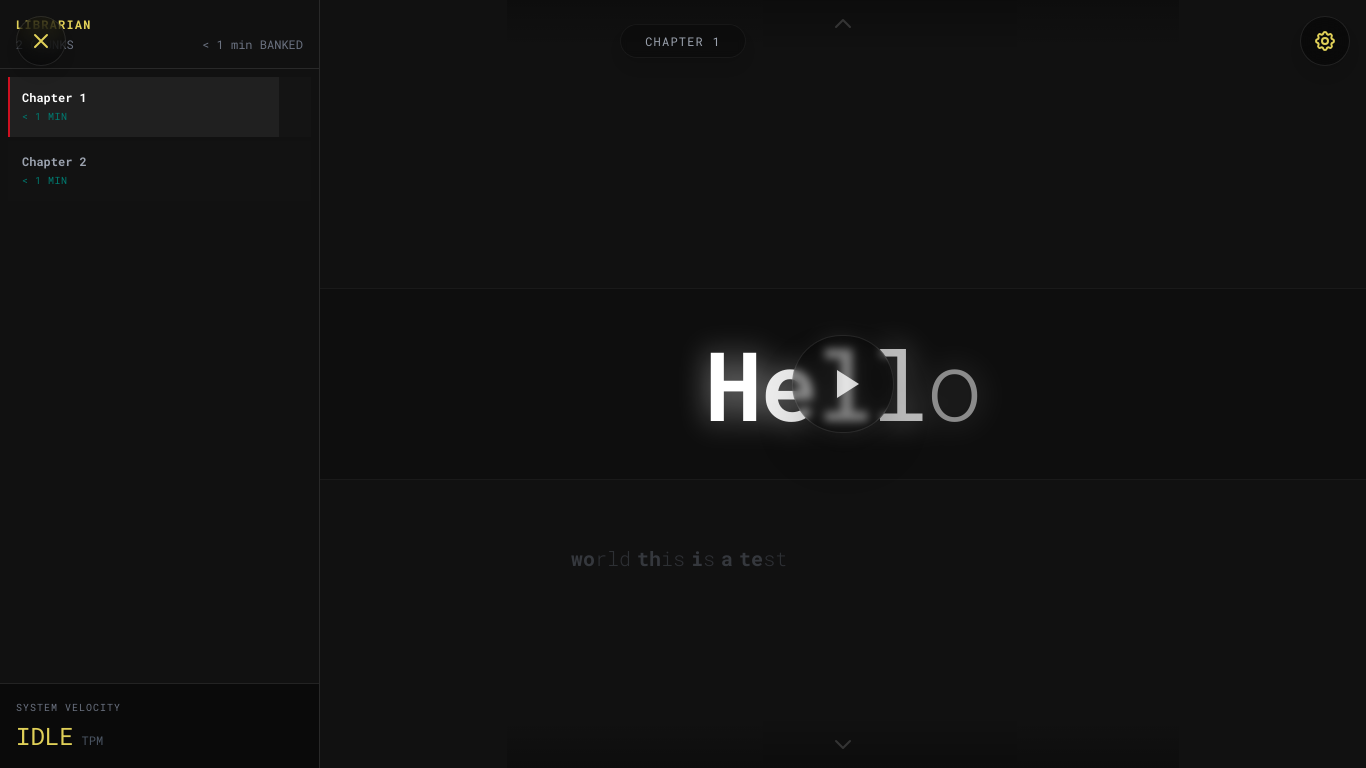
Test: Reader Component › should toggle play/pause
The width and height of the screenshot is (1366, 768).
Expected: the element with test id "play-overlay" is shown, [792,335,894,433]
Click the RSVP container to toggle play
Step 1. Click the element with test id "rsvp-container" → (843, 384), box [320,288,1365,480]
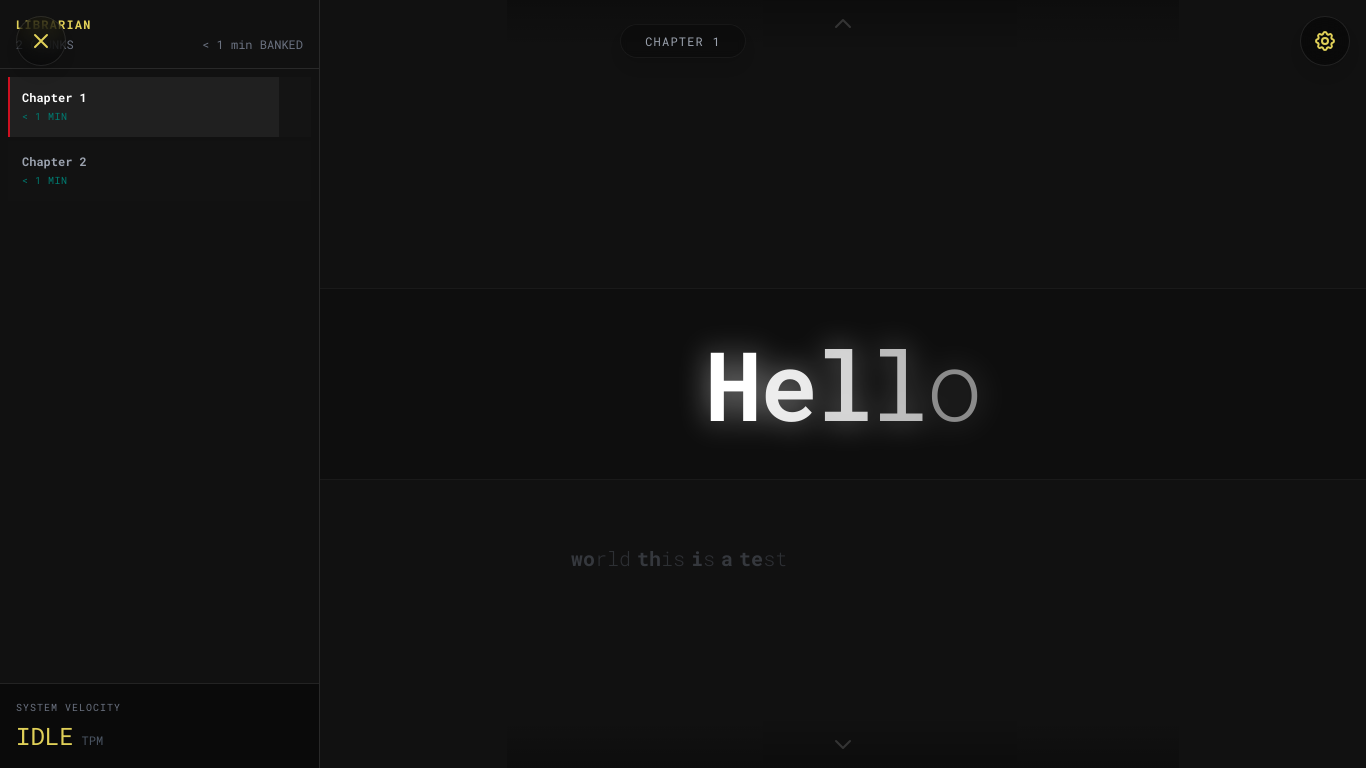
Result: the element with test id "play-overlay" is gone
Click again to pause
Step 2. Click the element with test id "rsvp-container" → (843, 384), box [320,288,1365,480]
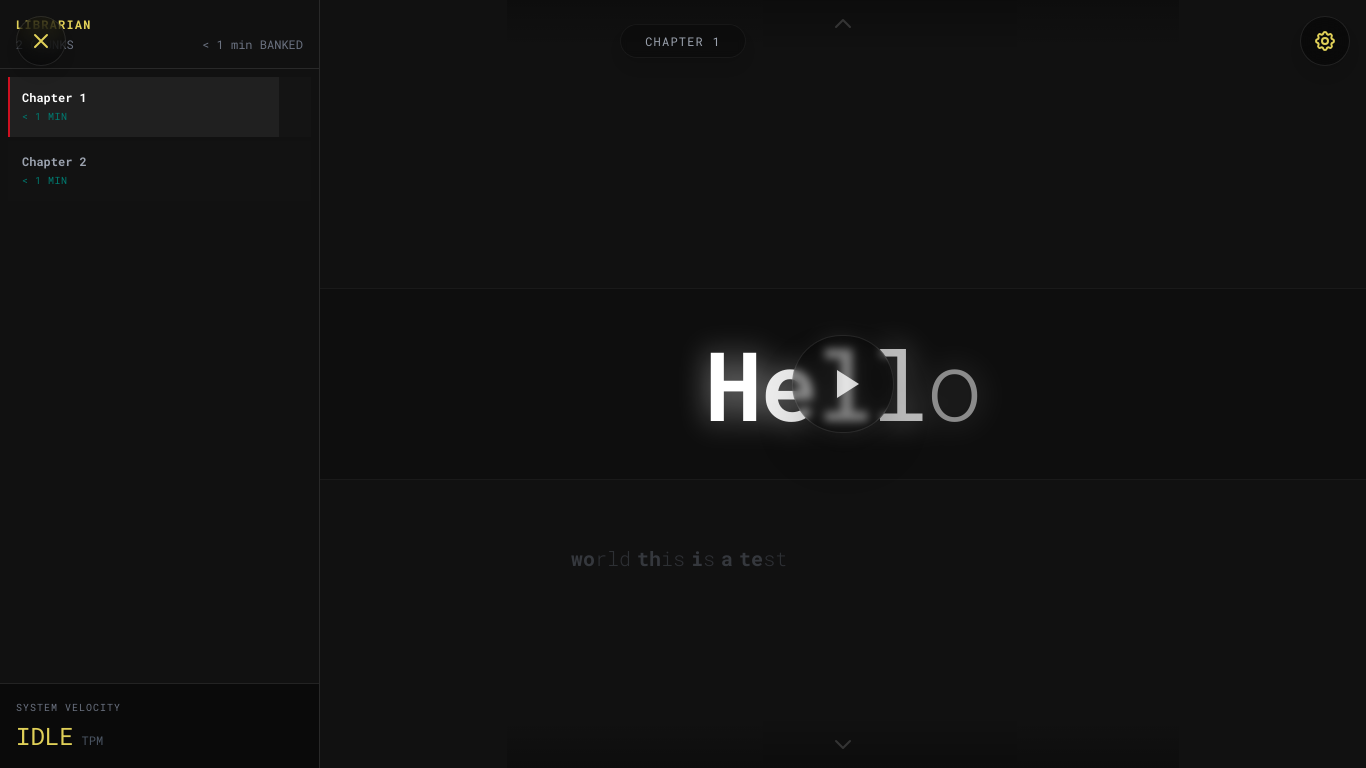
Result: the element with test id "play-overlay" is shown at [792,335,894,433]
